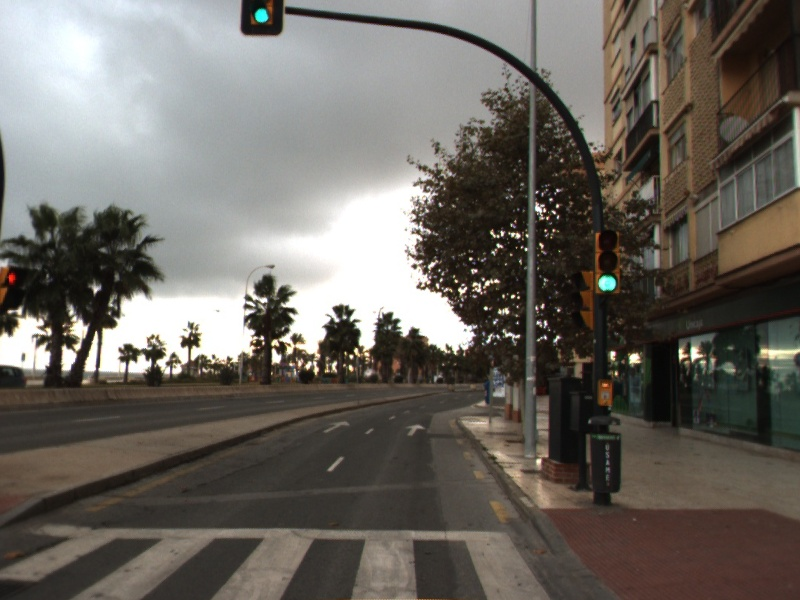STRAIGHT: (321, 419, 352, 434), (403, 422, 427, 437)
